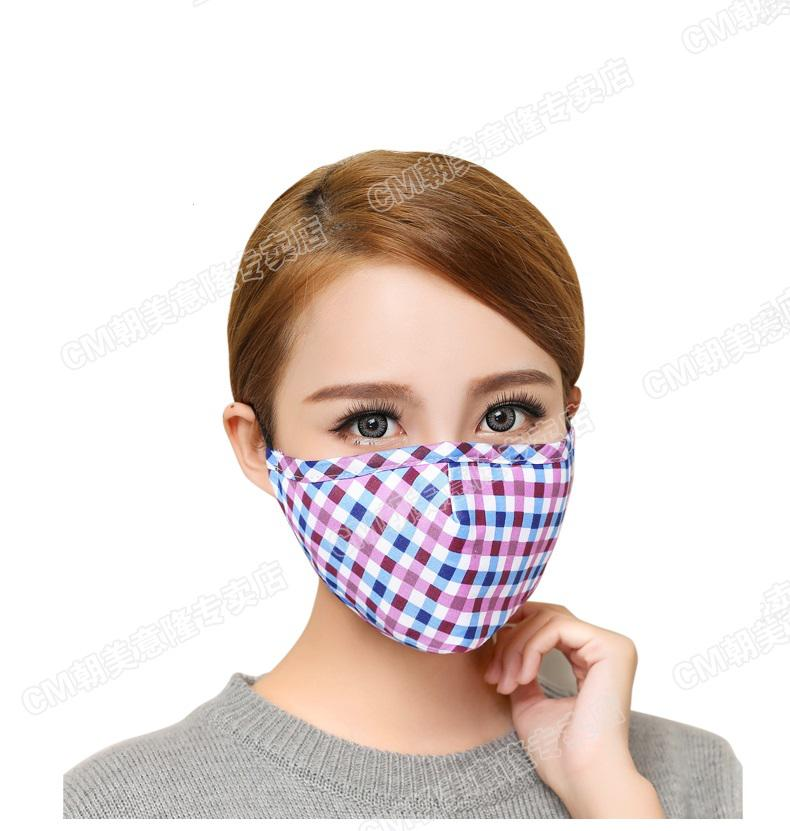OK: (291, 357, 586, 652)
